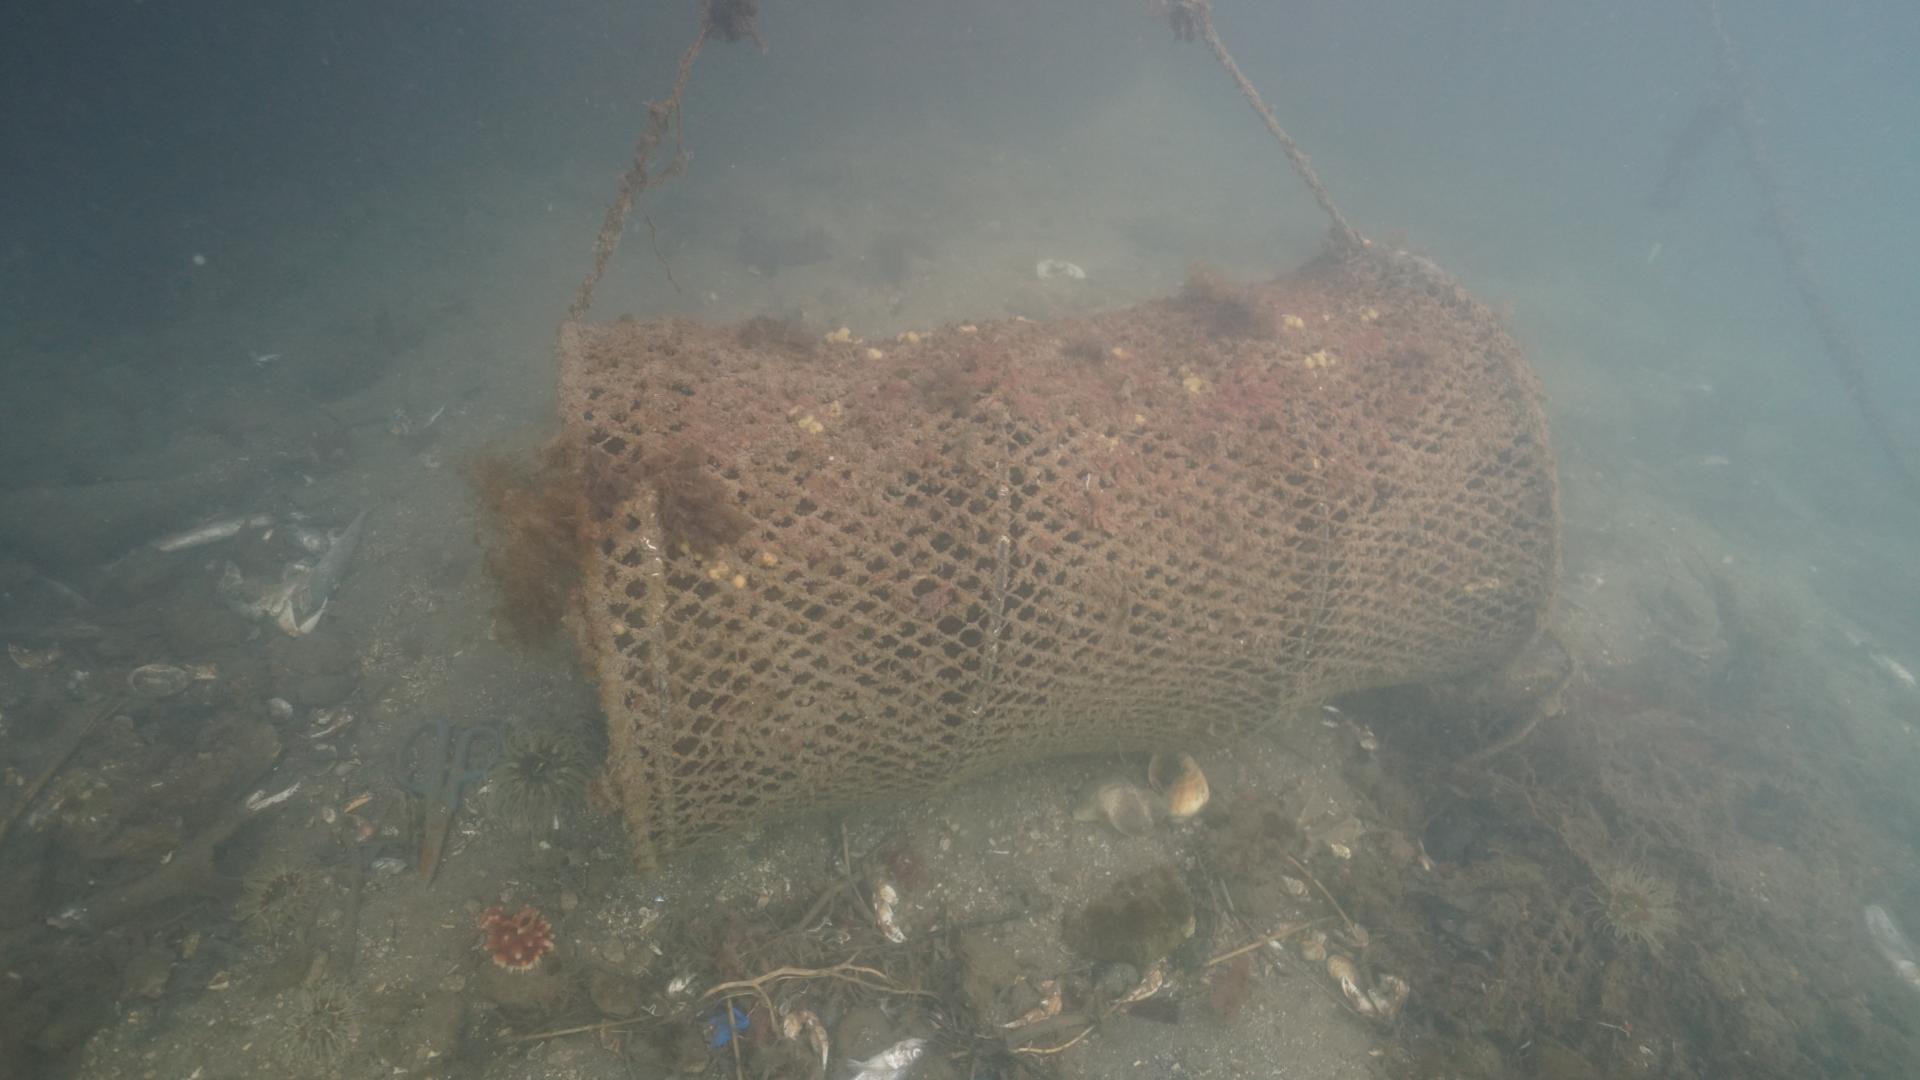rope: (562, 0, 708, 324), (1197, 0, 1364, 255)
spring fish trap: (551, 229, 1567, 890)
